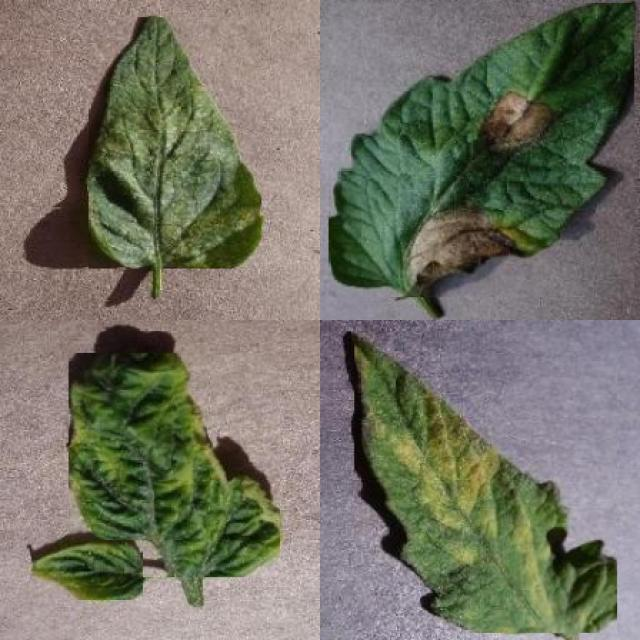Late Blight: (329, 2, 634, 298)
Leaf Mold: (354, 331, 617, 633)
Spider Mites: (88, 18, 262, 268)
Yellow Leaf Curl Virus: (69, 353, 280, 577), (32, 540, 142, 600)
